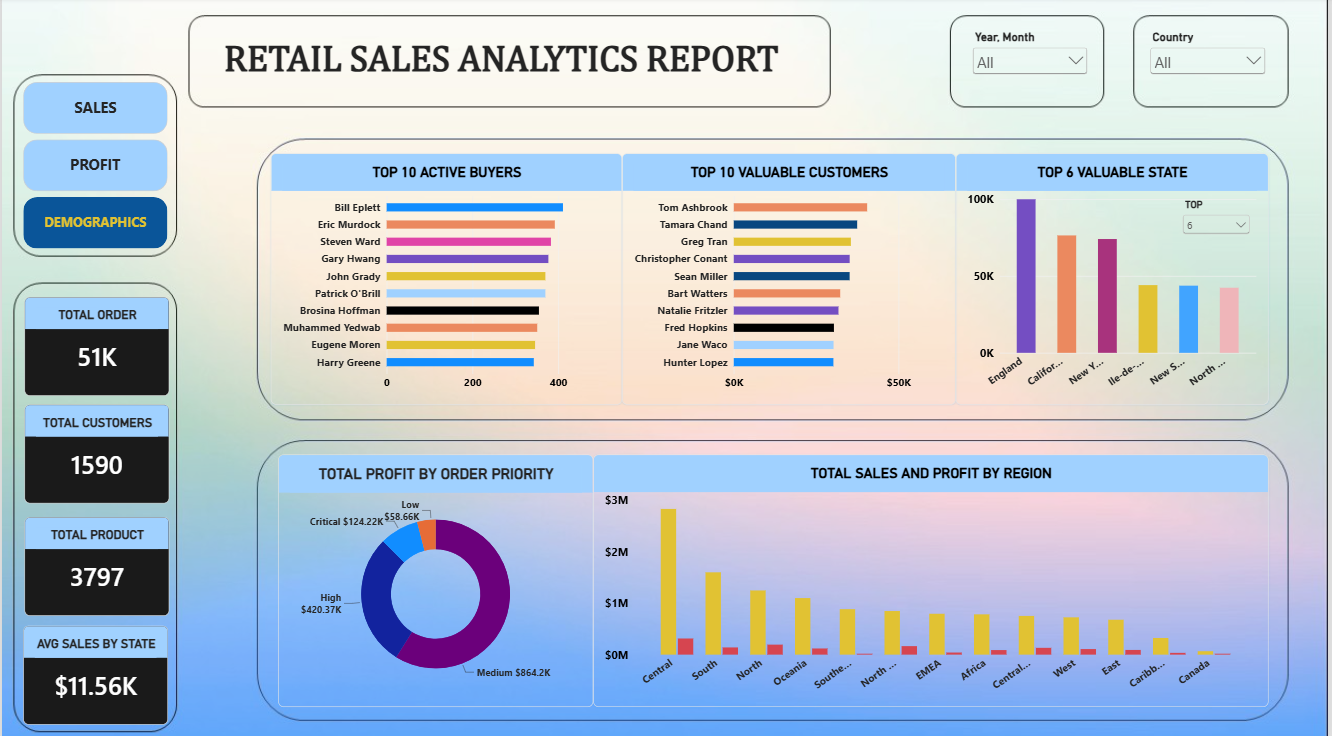

The page's visual inventory and layout, read from the dashboard file:
{"tool":"powerbi","page":{"name":"DEMOGRAPHICS","canvas":[1920,1080],"ordinal":2},"visuals":[{"type":"pageNavigator","box":[30.9,123.5,209.9,242.9],"z":0},{"type":"textbox","box":[30.8,61.5,1384.4,106.8],"z":1000},{"type":"slicer","fields":{"Values":["Date_table.Date.Variation.Date Hierarchy.Year","Date_table.Date.Variation.Date Hierarchy.Month"]},"box":[1400.7,47.1,175.5,152],"z":2000},{"type":"slicer","fields":{"Values":["location_table.Country"]},"box":[1657.6,47.1,176,152],"z":3000},{"type":"card","title":"TOTAL CUSTOMERS","fields":{"Values":["calculated_table.total_cust"]},"box":[32.6,589.9,209.9,143],"z":4000},{"type":"card","title":"AVG SALES BY STATE","fields":{"Values":["calculated_table.avg_sales_by_state"]},"box":[30,910,209.9,143],"z":5000},{"type":"card","title":"TOTAL PRODUCT","fields":{"Values":["calculated_table.total_product"]},"box":[33.3,753.3,209.9,143],"z":6000},{"type":"card","title":"TOTAL ORDER","fields":{"Values":["calculated_table.total_order"]},"box":[33.3,435,209.9,143],"z":7000},{"type":"clusteredBarChart","title":"TOP 10 ACTIVE BUYERS","fields":{"Category":["customer_table.Customer Name"],"Y":["calculated_table.total_qty"]},"box":[389.1,226.2,508.5,363.7],"z":8000},{"type":"clusteredBarChart","title":"TOP 10 VALUABLE CUSTOMERS","fields":{"Category":["customer_table.Customer Name"],"Y":["calculated_table.total_sales"]},"box":[897.6,226.2,483.2,363.7],"z":9000},{"type":"clusteredColumnChart","fields":{"Category":["location_table.State"],"Y":["calculated_table.top_rank_var"]},"box":[1380.8,226.2,452.4,363.7],"z":10000},{"type":"slicer","fields":{"Values":["TOP_RANK.Value"]},"box":[1704.7,291.4,106.8,57.9],"z":11000},{"type":"donutChart","title":"TOTAL PROFIT BY ORDER PRIORITY","fields":{"Category":["sales_table.Order Priority"],"Y":["calculated_table.total_profit"]},"box":[399.9,662.3,456,365.6],"z":12000},{"type":"clusteredColumnChart","title":"TOTAL SALES AND PROFIT BY REGION","fields":{"Category":["location_table.Region"],"Y":["calculated_table.total_sales","calculated_table.total_profit"]},"box":[856,662.3,977.2,365.6],"z":13000}]}

Visuals, with their boxes in screenshot pixels (x1, y1, x2, y2), scaled from the page's 1920x1080 canvas onto the 1332x736 screenshot:
pageNavigator: 21,84,167,250
textbox: 21,42,982,115
slicer - Date_table.Date.Variation.Date Hierarchy.Year x Date_table.Date.Variation.Date Hierarchy.Month: 972,32,1093,136
slicer - location_table.Country: 1150,32,1272,136
"TOTAL CUSTOMERS" card: 23,402,168,499
"AVG SALES BY STATE" card: 21,620,166,718
"TOTAL PRODUCT" card: 23,513,169,611
"TOTAL ORDER" card: 23,296,169,394
"TOP 10 ACTIVE BUYERS" clusteredBarChart: 270,154,623,402
"TOP 10 VALUABLE CUSTOMERS" clusteredBarChart: 623,154,958,402
clusteredColumnChart - location_table.State x calculated_table.top_rank_var: 958,154,1272,402
slicer - TOP_RANK.Value: 1183,199,1257,238
"TOTAL PROFIT BY ORDER PRIORITY" donutChart: 277,451,594,700
"TOTAL SALES AND PROFIT BY REGION" clusteredColumnChart: 594,451,1272,700
